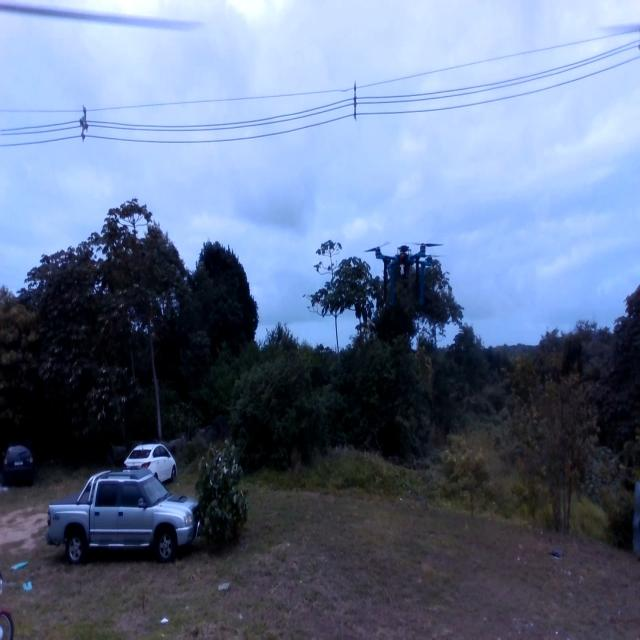-uav-: (364, 228, 448, 317)
